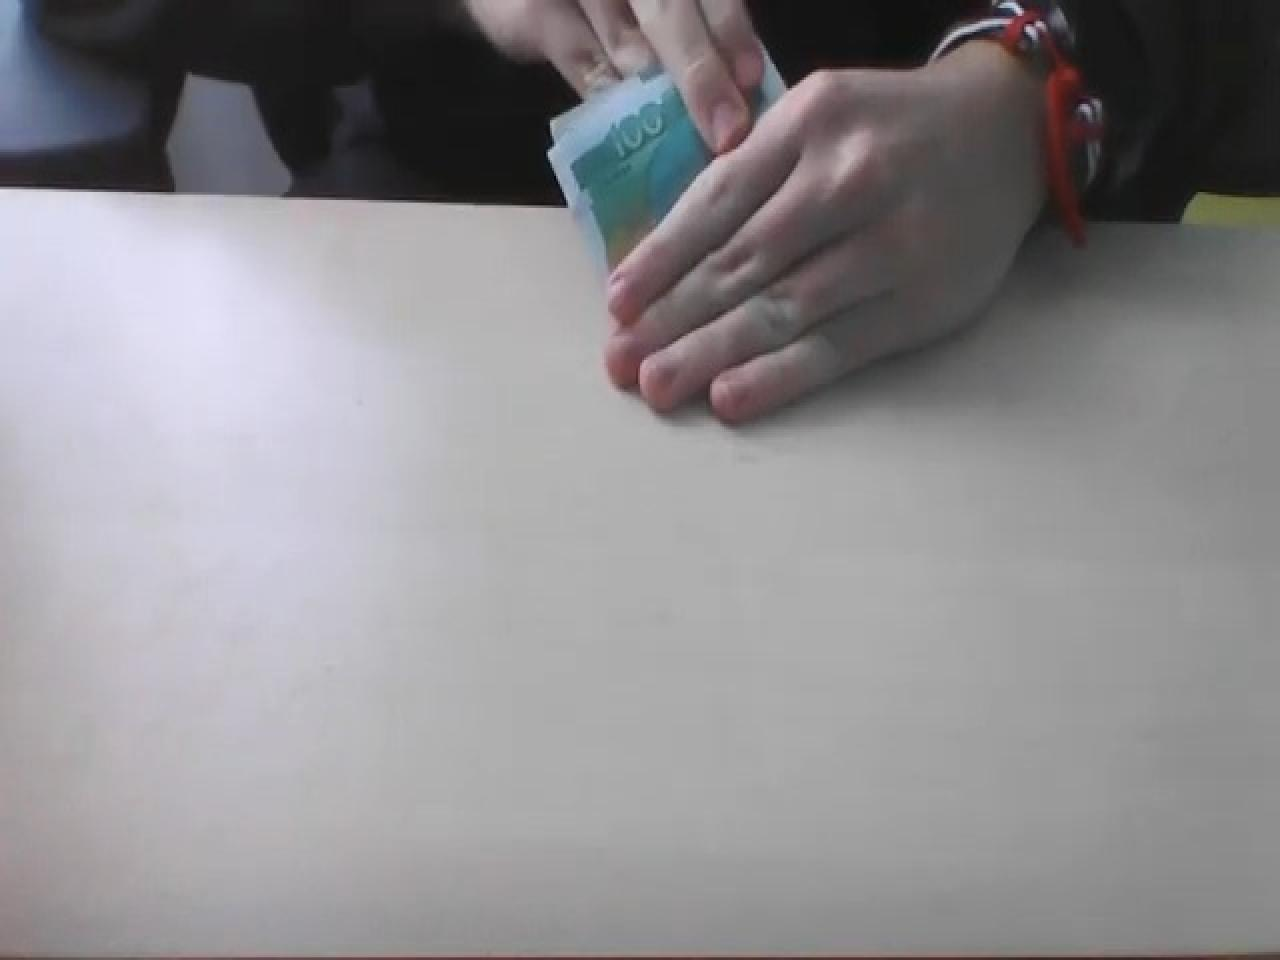100leva: (546, 70, 714, 269)
